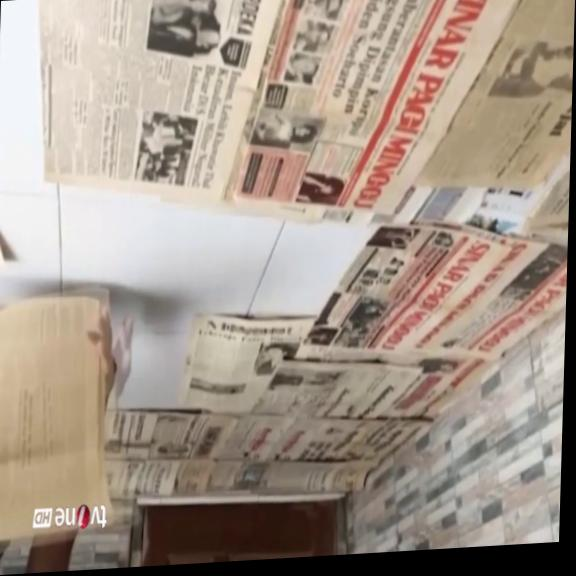Kertas: (225, 0, 526, 232), (34, 0, 293, 222), (330, 210, 567, 369), (179, 307, 420, 427)
